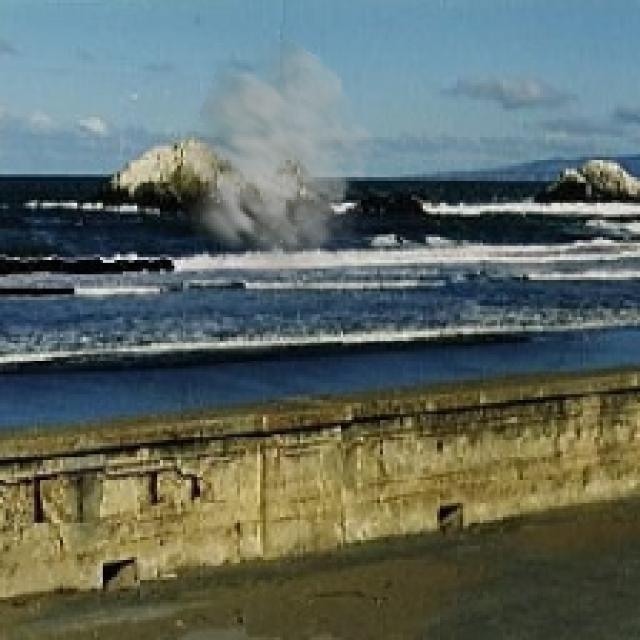smoke: (160, 32, 383, 288)
